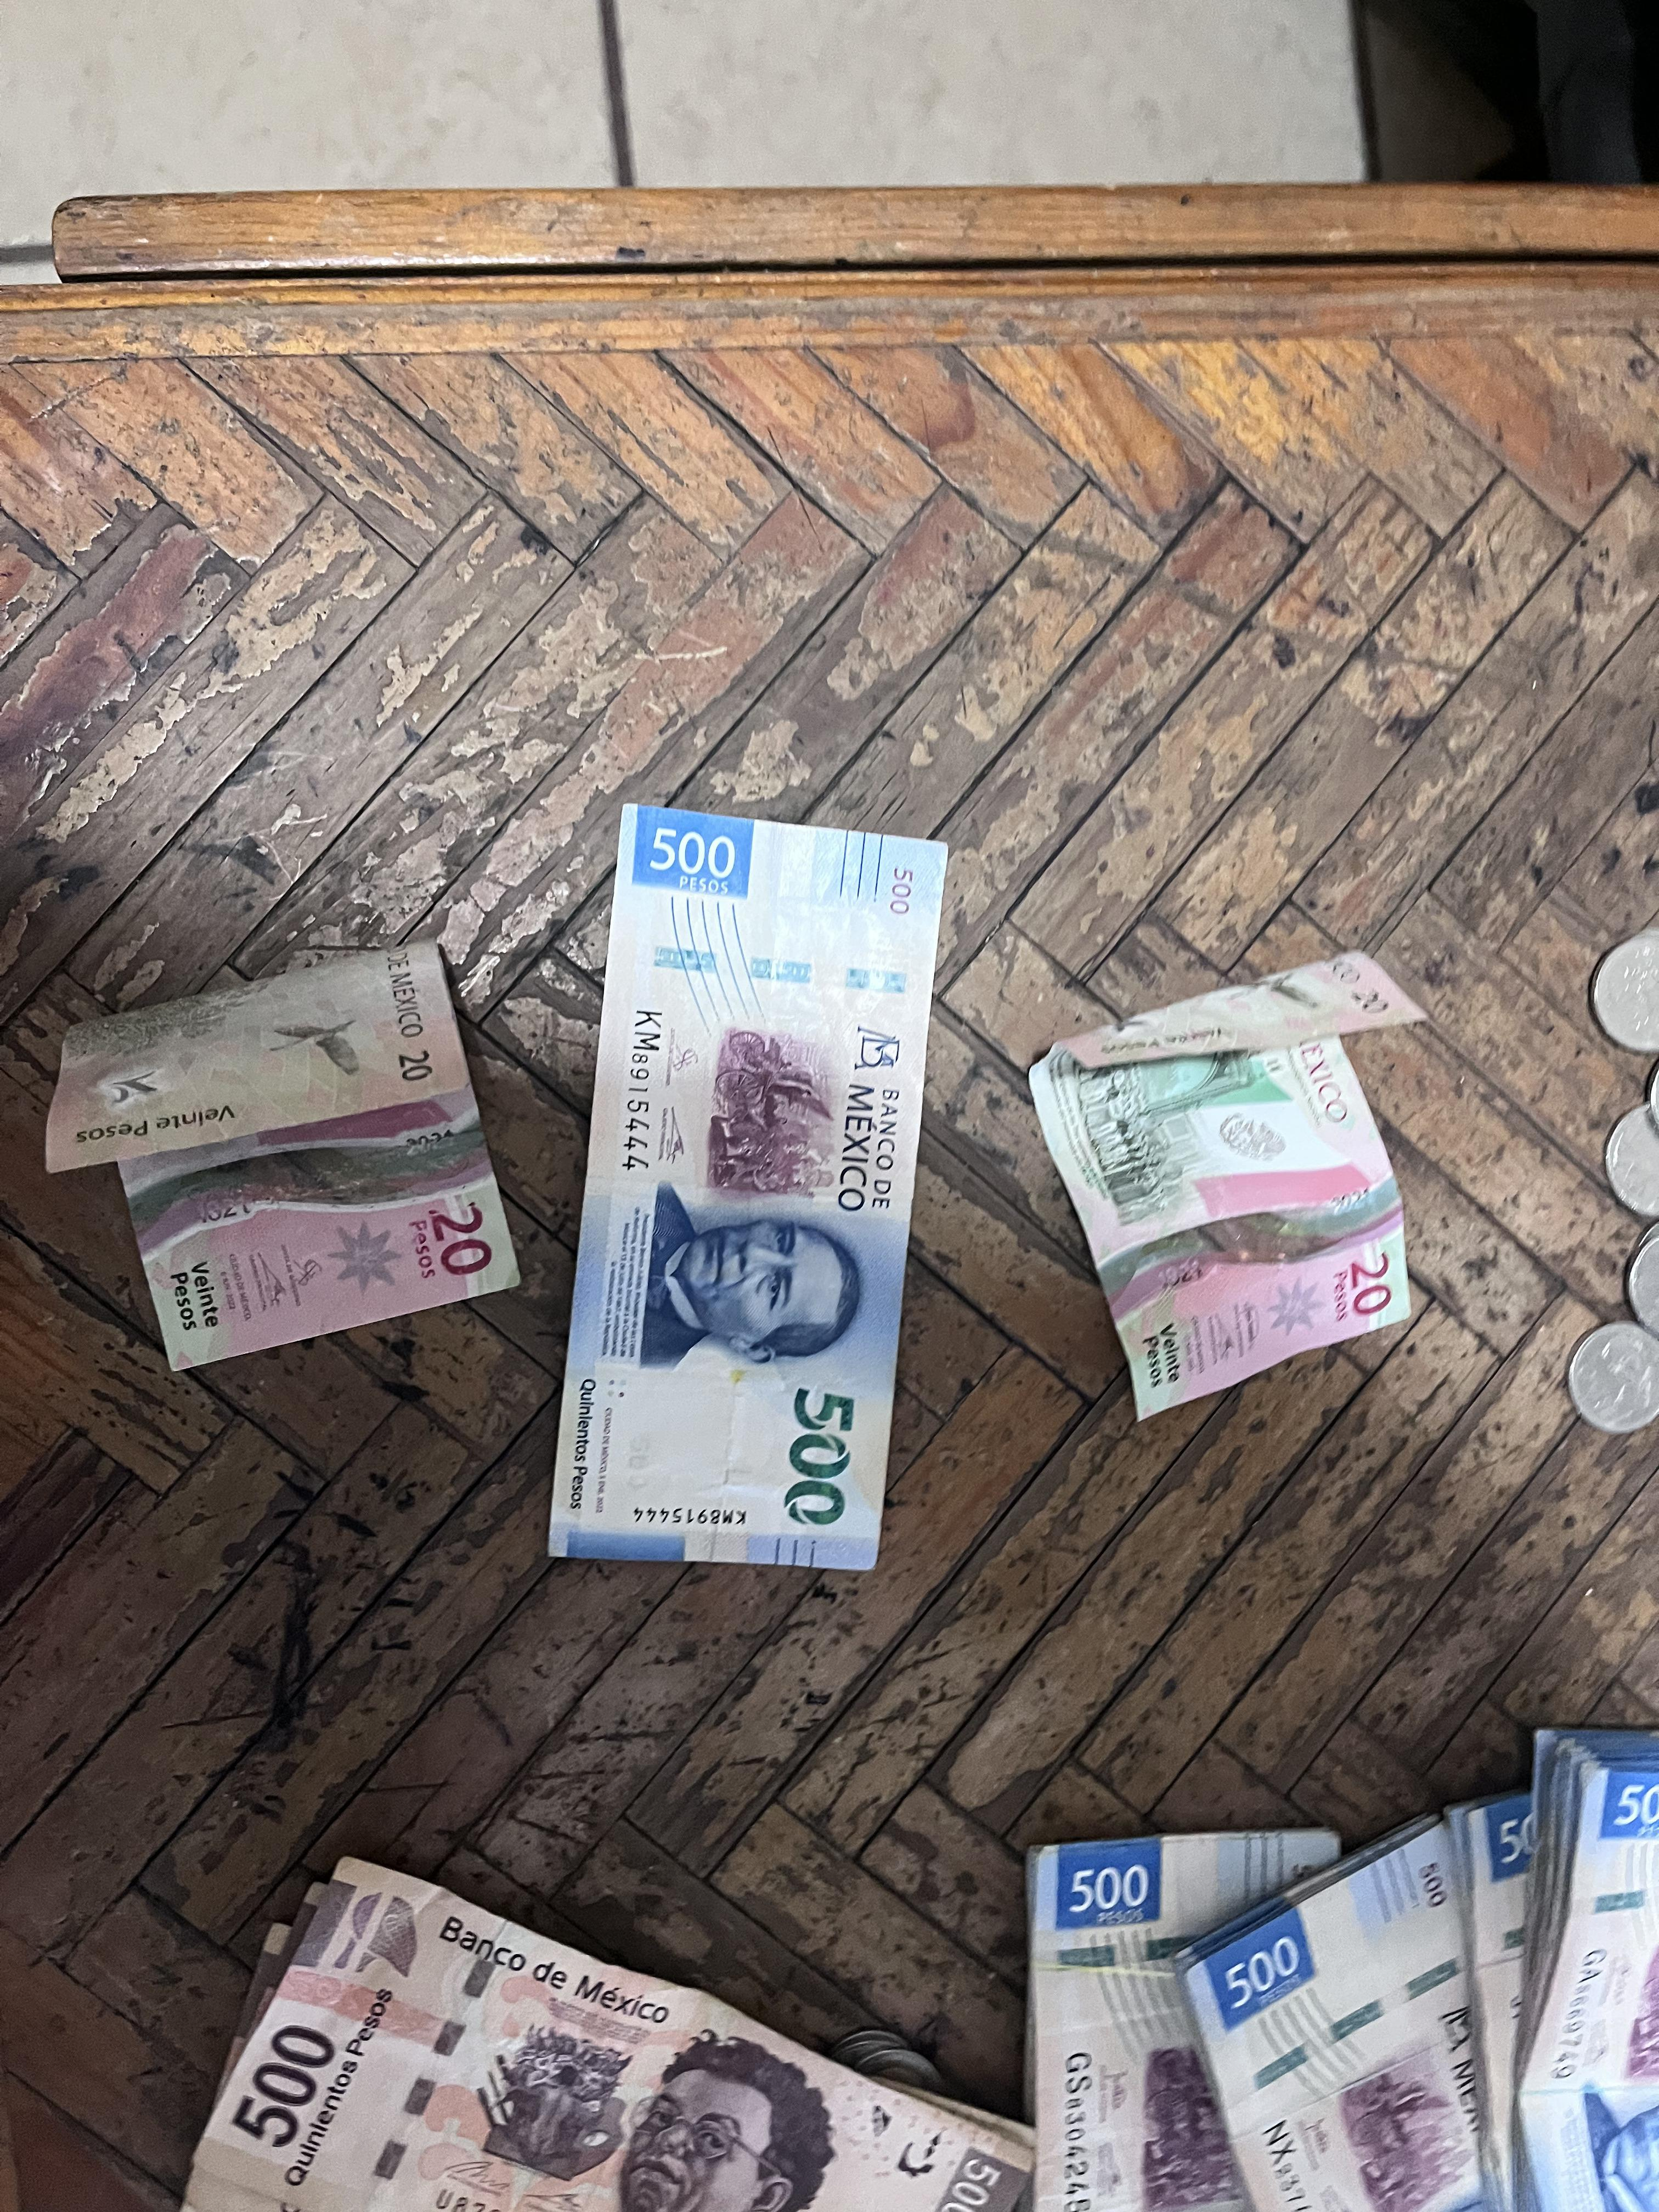20: (38, 927, 545, 1390), (1019, 937, 1443, 1432)
500: (186, 1867, 1042, 2210), (1457, 1712, 1659, 2212)
500 nuevo: (545, 806, 957, 1576), (1169, 1810, 1490, 2210), (1030, 1839, 1354, 2212)
